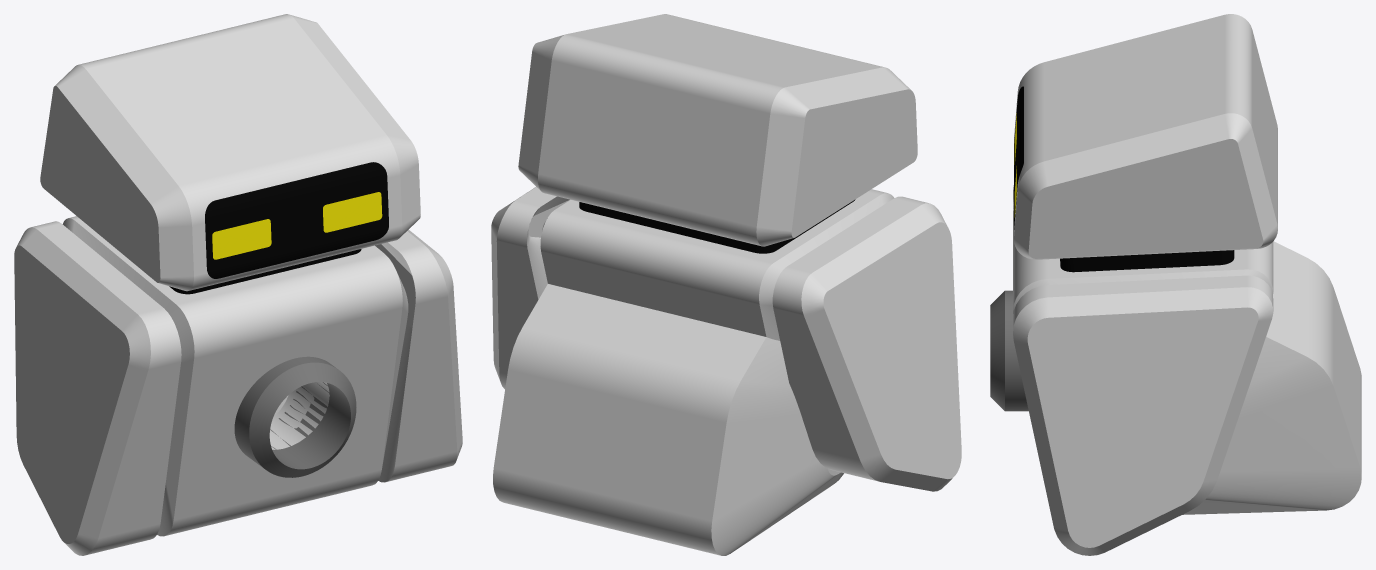
The model's file is AAR001_FAR.fbx.
3 views of the same model, side by side, from view 1: azimuth 30°, elevation 25°; view 2: azimuth 150°, elevation 25°; view 3: azimuth 270°, elevation 25° (orthographic). The views are drawn at different scales.
Visible parts, largest first — view 1: Body1, Body2, Body16, Body11, Body4, Body22, Body7, Body6, Body3; view 2: Body1, Body23, Body16, Body2, Body11, Body3; view 3: Body1, Body11, Body23, Body2, Body22, Body3, Body4.
Part boxes in pixels (bbox=[...]): Body1: bbox=[40, 14, 420, 291]; Body2: bbox=[62, 216, 408, 536]; Body16: bbox=[14, 221, 181, 555]; Body11: bbox=[375, 229, 462, 482]; Body4: bbox=[205, 162, 388, 278]; Body22: bbox=[234, 356, 356, 477]; Body7: bbox=[212, 219, 271, 259]; Body6: bbox=[323, 192, 382, 232]; Body3: bbox=[169, 249, 361, 294]; Body1: bbox=[518, 14, 917, 246]; Body23: bbox=[493, 284, 843, 555]; Body16: bbox=[772, 196, 961, 491]; Body2: bbox=[540, 189, 894, 340]; Body11: bbox=[491, 187, 570, 389]; Body3: bbox=[579, 199, 855, 253]; Body1: bbox=[1014, 14, 1277, 259]; Body11: bbox=[1013, 275, 1273, 555]; Body23: bbox=[1182, 241, 1361, 514]; Body2: bbox=[1013, 205, 1273, 313]; Body22: bbox=[990, 290, 1028, 411]; Body3: bbox=[1060, 250, 1234, 272]; Body4: bbox=[1014, 86, 1023, 229].
Size of the model in its own units: 29.97 by 30.43 by 25.33.
